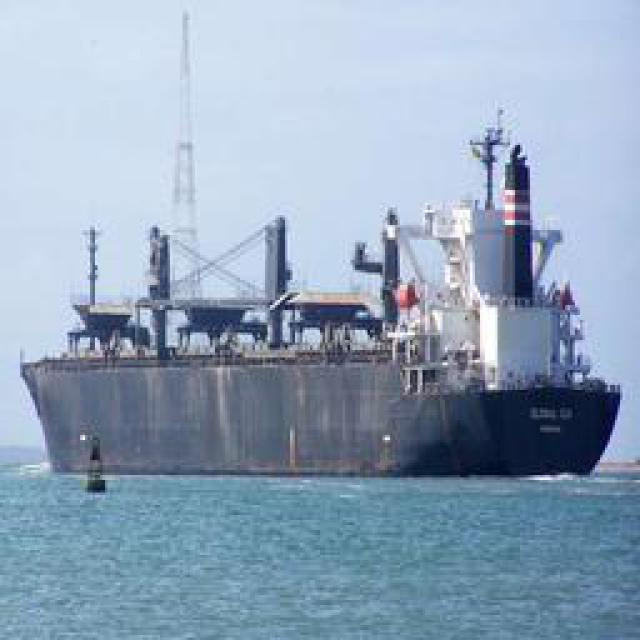Ship: (30, 70, 625, 480)
